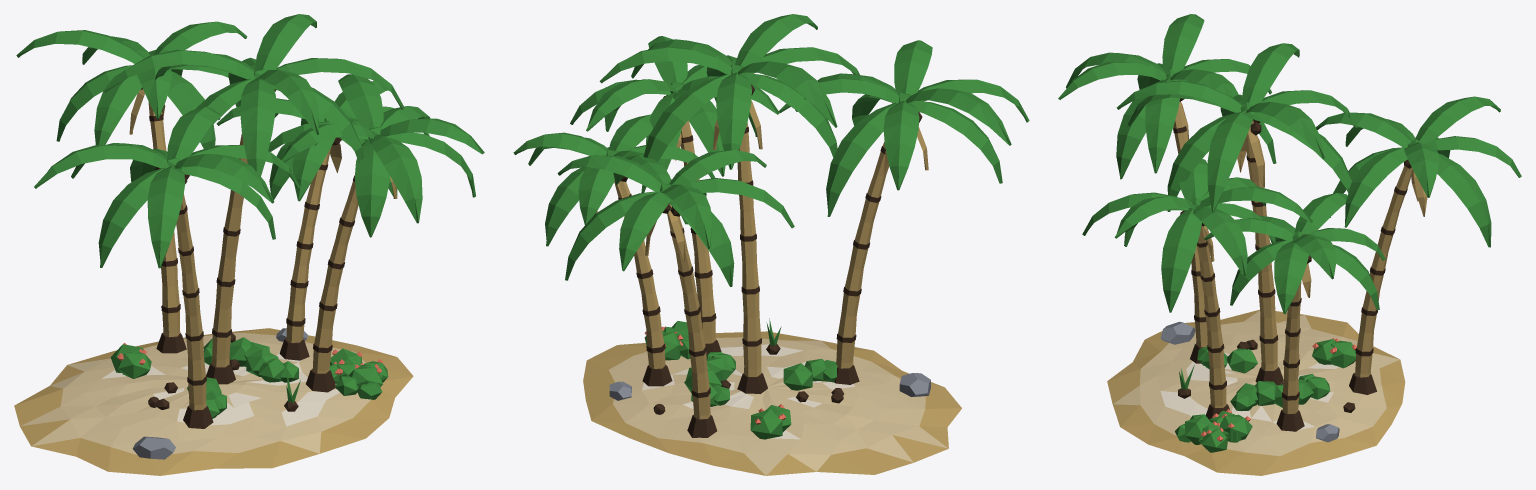
The picture shows the model from 3 angles, left to right: view 1: azimuth 30°, elevation 25°; view 2: azimuth 150°, elevation 25°; view 3: azimuth 270°, elevation 25°; orthographic projection. The views are drawn at different scales.
Visible parts, largest first — view 1: palm_fronds, knoll, palm_trunks, knoll_shore, shrubs, knoll_crest, palm_boles, palm_trunk_rings, rocks, dead_fronds, fallen_coconuts; view 2: palm_fronds, knoll, palm_trunks, knoll_shore, shrubs, palm_boles, palm_trunk_rings, knoll_crest, dead_fronds, rocks, fallen_coconuts; view 3: palm_fronds, knoll, palm_trunks, knoll_shore, shrubs, knoll_crest, palm_trunk_rings, palm_boles, dead_fronds, rocks.
Boxes of the visible parts, x1=… form: palm_fronds: x1=16, y1=14, x2=484, y2=268; knoll: x1=20, y1=332, x2=370, y2=454; palm_trunks: x1=148, y1=101, x2=358, y2=410; knoll_shore: x1=14, y1=328, x2=413, y2=475; shrubs: x1=110, y1=337, x2=388, y2=418; knoll_crest: x1=101, y1=350, x2=339, y2=426; palm_boles: x1=156, y1=333, x2=335, y2=428; palm_trunk_rings: x1=149, y1=114, x2=354, y2=385; rocks: x1=132, y1=328, x2=307, y2=459; dead_fronds: x1=129, y1=89, x2=397, y2=198; fallen_coconuts: x1=148, y1=333, x2=298, y2=411; palm_fronds: x1=513, y1=14, x2=1029, y2=286; knoll: x1=609, y1=337, x2=948, y2=475; palm_trunks: x1=614, y1=120, x2=889, y2=419; knoll_shore: x1=583, y1=331, x2=961, y2=475; shrubs: x1=644, y1=321, x2=837, y2=439; palm_boles: x1=642, y1=339, x2=859, y2=437; palm_trunk_rings: x1=618, y1=126, x2=885, y2=397; knoll_crest: x1=642, y1=344, x2=854, y2=439; dead_fronds: x1=596, y1=100, x2=928, y2=261; rocks: x1=609, y1=373, x2=930, y2=400; fallen_coconuts: x1=653, y1=344, x2=843, y2=414; palm_fronds: x1=1058, y1=14, x2=1521, y2=314; knoll: x1=1113, y1=310, x2=1399, y2=456; palm_trunks: x1=1173, y1=102, x2=1413, y2=413; knoll_shore: x1=1107, y1=309, x2=1405, y2=475; shrubs: x1=1175, y1=339, x2=1355, y2=452; knoll_crest: x1=1160, y1=353, x2=1338, y2=431; palm_trunk_rings: x1=1173, y1=126, x2=1407, y2=400; palm_boles: x1=1190, y1=344, x2=1376, y2=431; dead_fronds: x1=1180, y1=101, x2=1427, y2=297; rocks: x1=1160, y1=321, x2=1339, y2=442.
Size of the model in its own units: 11.44 by 8.7 by 11.1.
